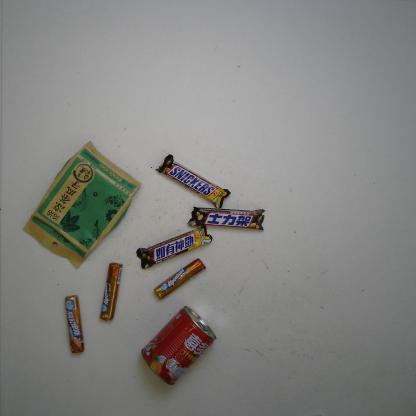Candy: (153, 257, 207, 300), (100, 262, 123, 322), (64, 294, 84, 354)
Canned Food: (141, 306, 217, 387)
Chocolate: (154, 153, 231, 209), (136, 226, 212, 269), (188, 206, 266, 231)
Dried Food: (22, 140, 142, 270)
